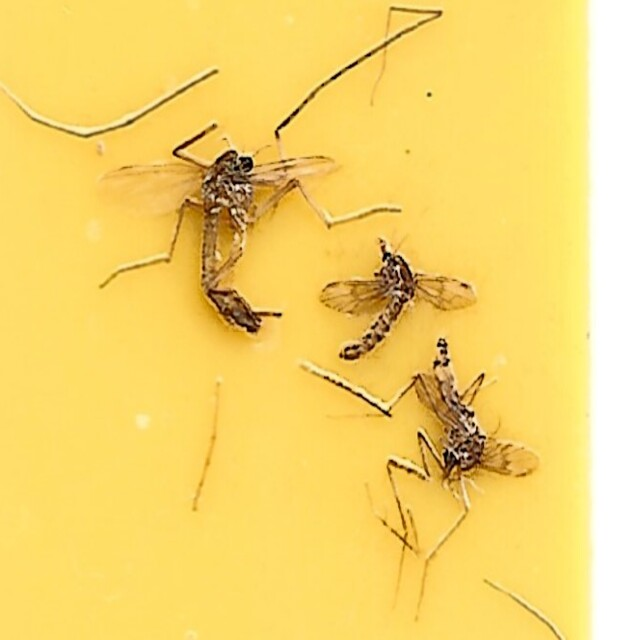Nematocera: (96, 134, 339, 348), (400, 331, 544, 506), (316, 239, 479, 368)
